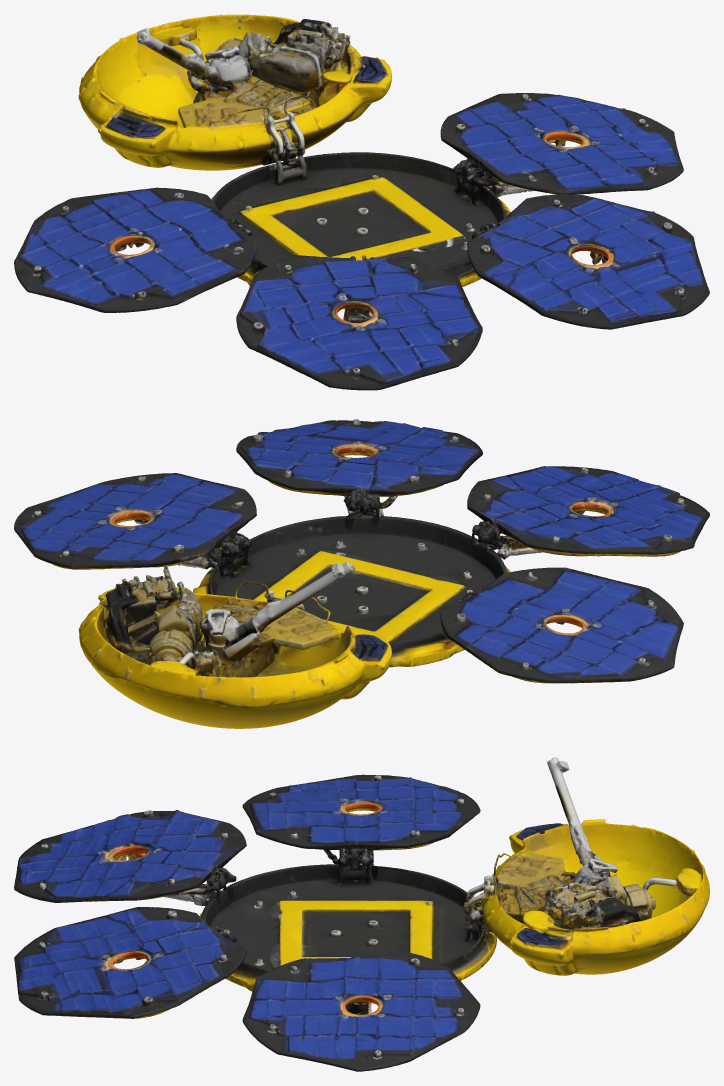
The model's file is beagle2.glb.
3 views of the same model, one above another, from view 1: azimuth 30°, elevation 25°; view 2: azimuth 150°, elevation 25°; view 3: azimuth 270°, elevation 25° (orthographic). The views are drawn at different scales.
Size of the model in its own units: 1.9 by 0.4498 by 1.89.
1 material, 1 textured.
